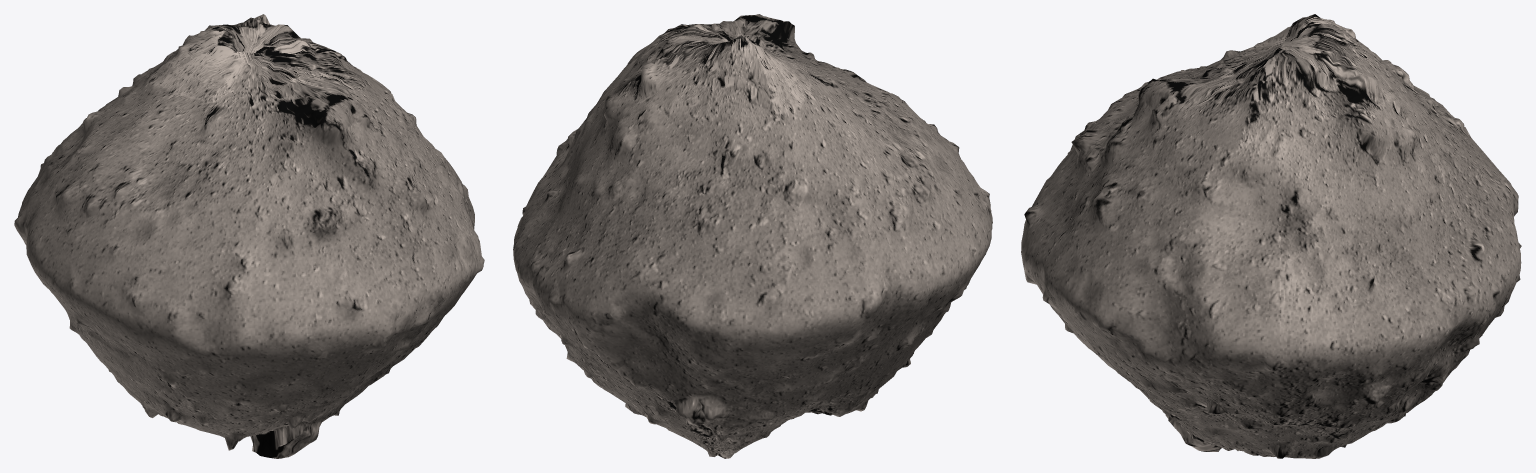
The model's file is ryugu-low.glb.
3 renders of one model, left to right at view 1: azimuth 30°, elevation 25°; view 2: azimuth 150°, elevation 25°; view 3: azimuth 270°, elevation 25°, orthographic. The views are drawn at different scales.
Parts seen in each view (by area): view 1: ryugu; view 2: ryugu; view 3: ryugu.
Boxes of the visible parts, x1,y1,x2,y2 form: ryugu: (14,14,484,458); ryugu: (513,14,992,458); ryugu: (1021,14,1521,458).
Size of the model in its own units: 1.02 by 0.9643 by 1.02.
Materials: 1 (1 with a texture image).
